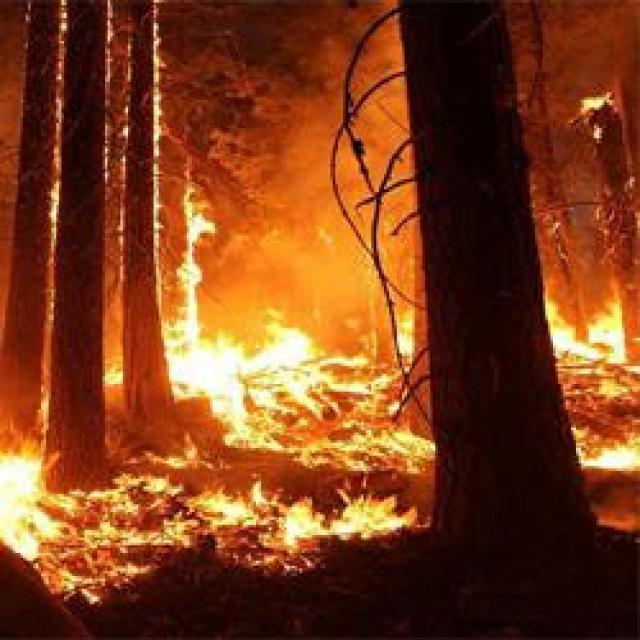Fire: (0, 178, 640, 583)
Smoke: (9, 0, 640, 393)
